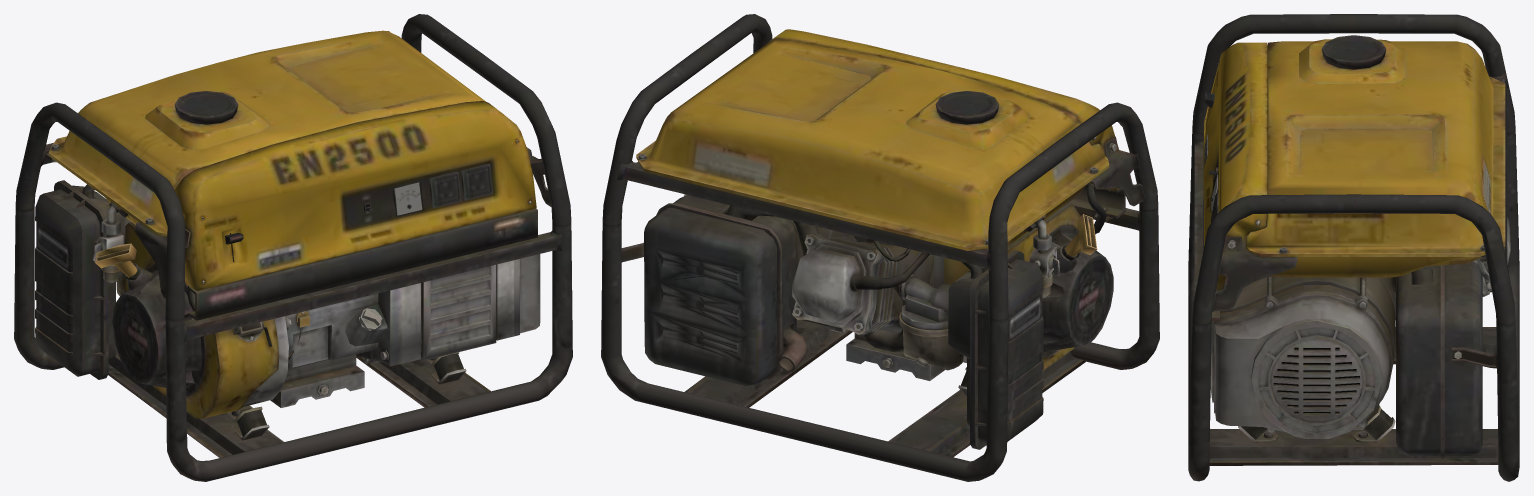
The model's file is portable_generator.glb.
3 renders of one model, left to right at view 1: azimuth 30°, elevation 25°; view 2: azimuth 150°, elevation 25°; view 3: azimuth 270°, elevation 25°, orthographic.
Visible parts, largest first — view 1: portable_generator; view 2: portable_generator; view 3: portable_generator.
Boxes of the visible parts, box(x1,y1,x2,y2) form: portable_generator: box(14, 14, 572, 481); portable_generator: box(601, 14, 1159, 481); portable_generator: box(1188, 14, 1519, 481).
Size of the model in its own units: 0.8169 by 0.5752 by 0.564.
Materials: 2 (2 with a texture image).
